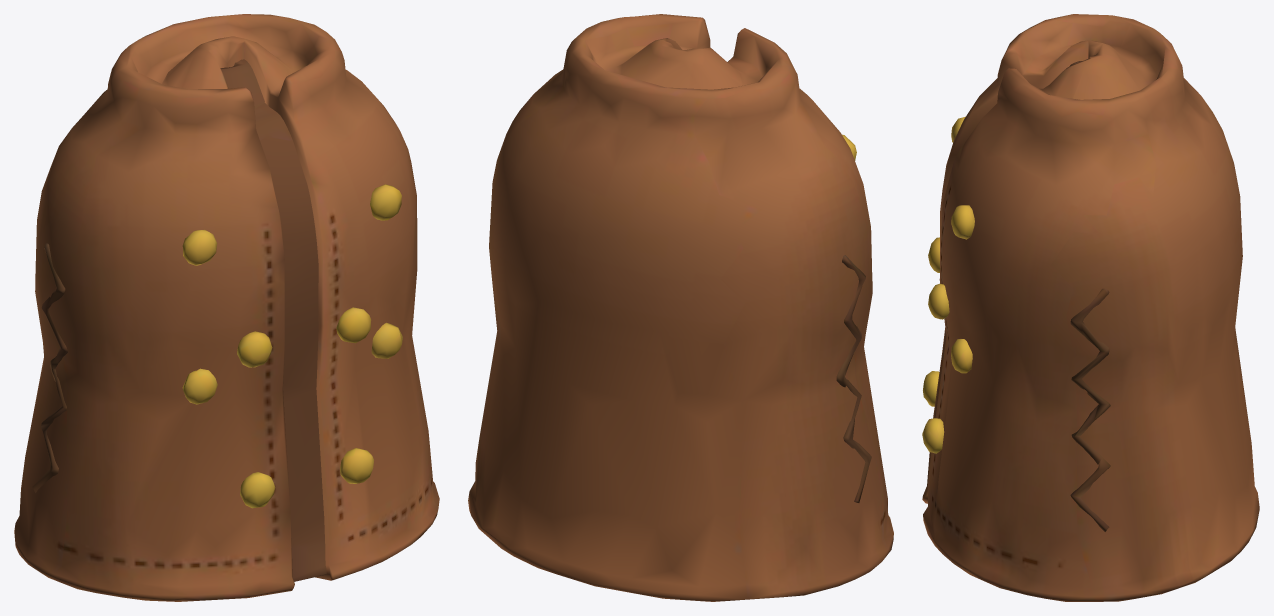
The model's file is studded-leather.glb.
The picture shows the model from 3 angles, left to right: view 1: azimuth 30°, elevation 25°; view 2: azimuth 150°, elevation 25°; view 3: azimuth 270°, elevation 25°; orthographic projection. The views are drawn at different scales.
Visible parts, largest first — view 1: leather; view 2: leather; view 3: leather.
Boxes of the visible parts, x1,y1,x2,y2 form: leather: [14, 14, 439, 601]; leather: [468, 14, 893, 601]; leather: [922, 14, 1259, 601].
Size of the model in its own units: 0.5865 by 0.7452 by 0.4575.
Materials: 1 (1 with a texture image).
